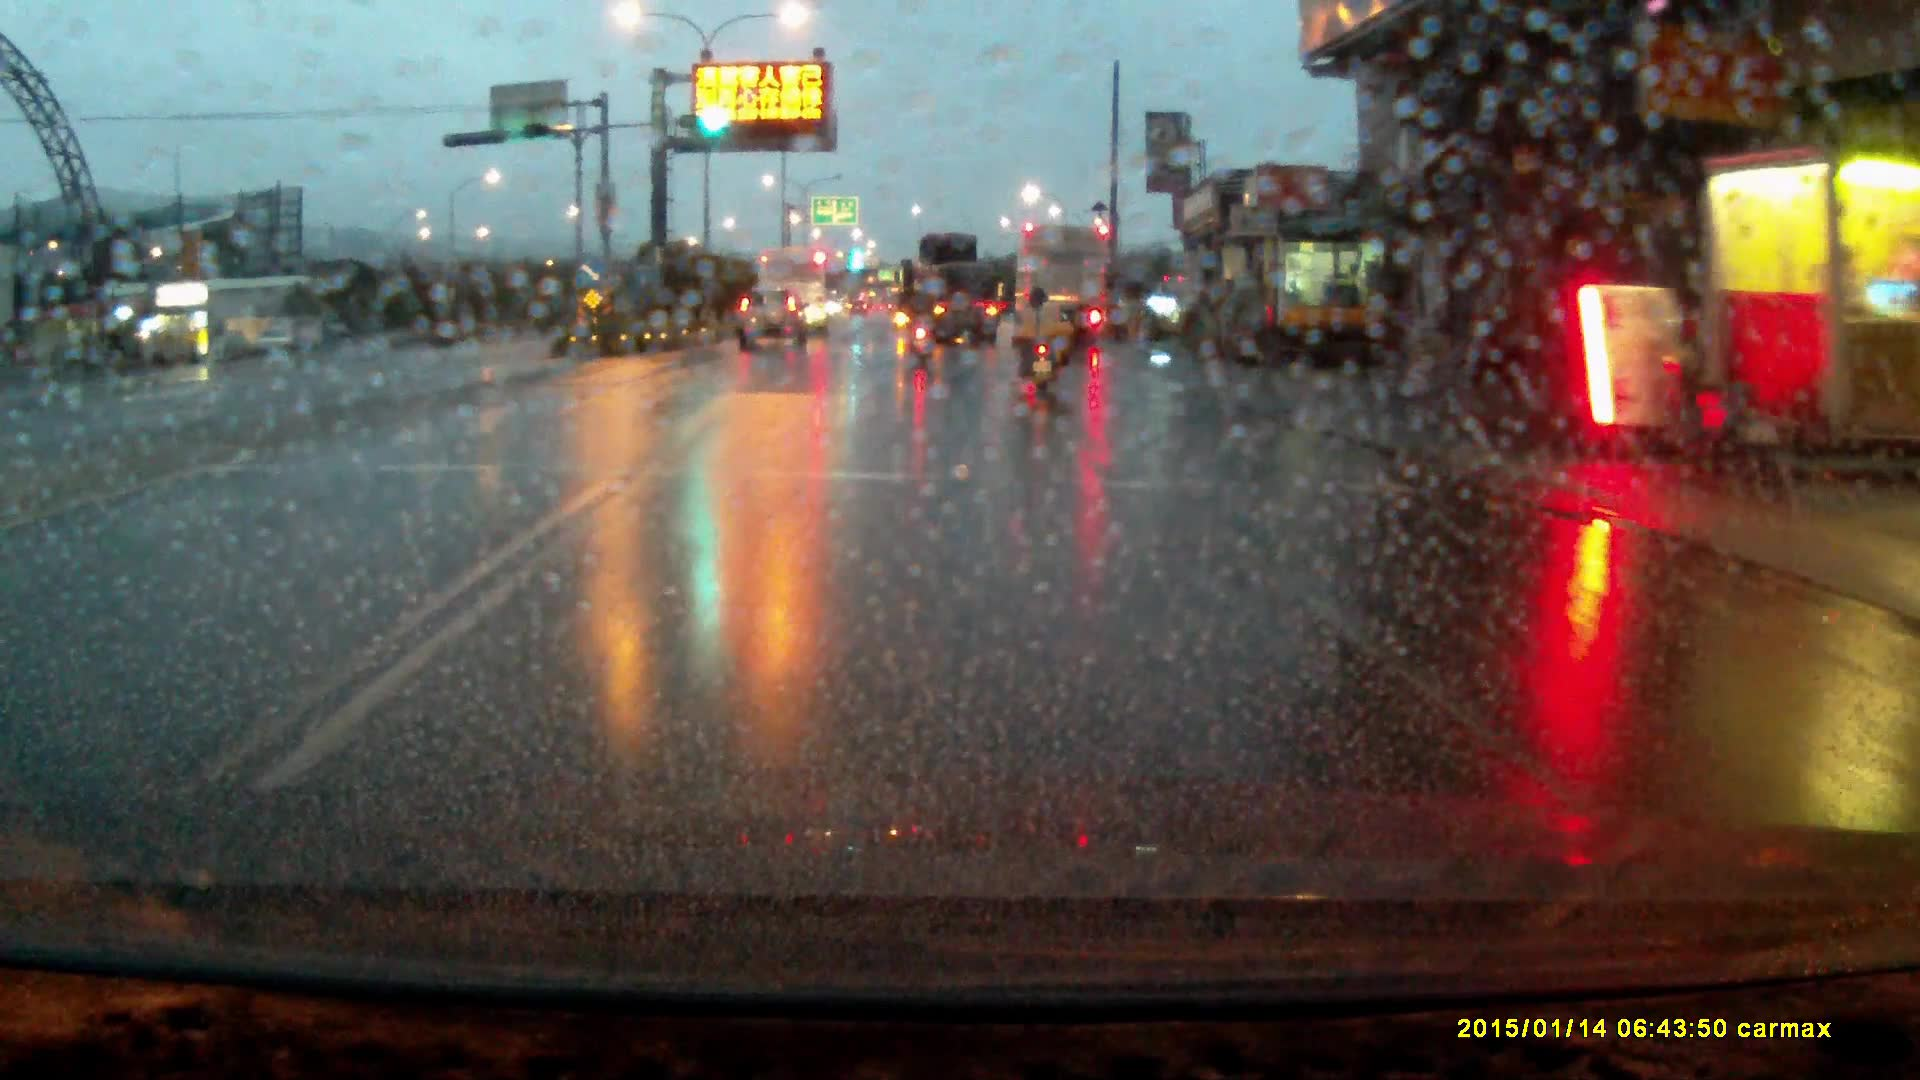rider: (1018, 287, 1068, 404), (902, 281, 939, 368)
vehicle: (1017, 220, 1115, 344), (907, 233, 1001, 347), (758, 246, 831, 335), (738, 288, 810, 353)
